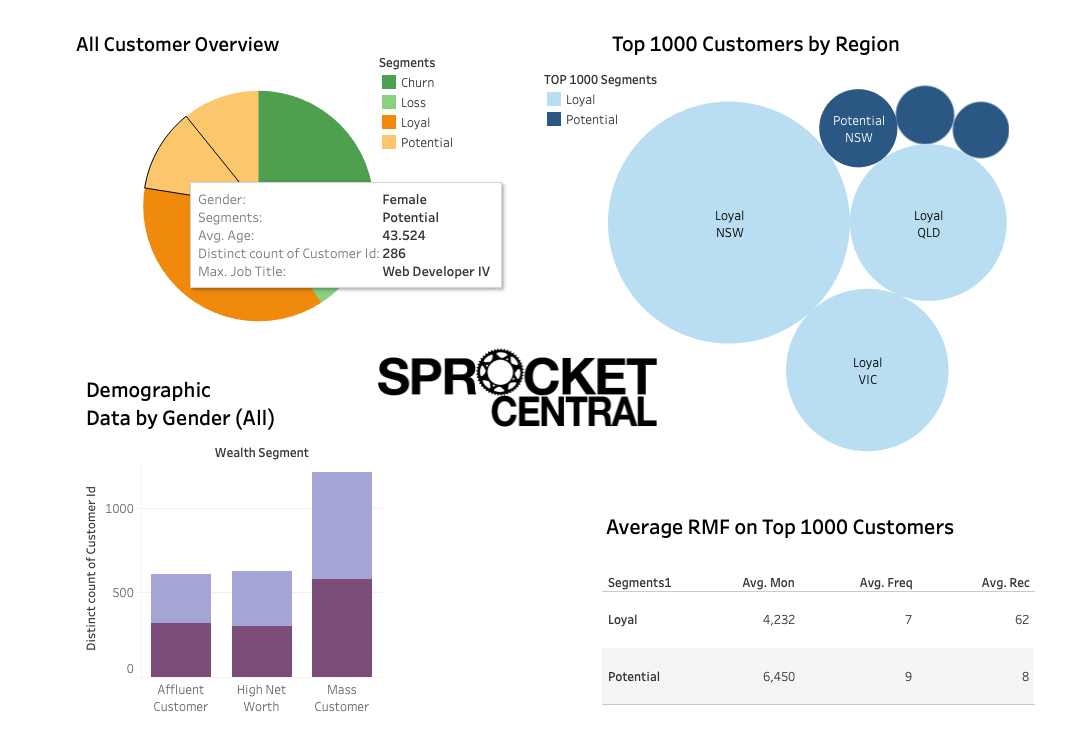

The dashboard page shown, as its layout file describes it:
{"tool":"tableau","page":{"name":"Task 3 Dashboard","canvas":[1000,800],"ordinal":0},"visuals":[{"type":"worksheet","title":"Sheet 2","mark":"Pie","box":[18,17,373,319]},{"type":"worksheet","title":"Sheet 2","mark":"Pie","param":"[federated.0g3k2z01fmvzmt17qfo8y04sjvdw].[none:segments:nk]","box":[325,45,140,98]},{"type":"worksheet","title":"Sheet 3","mark":"Circle","param":"[federated.0g3k2z01fmvzmt17qfo8y04sjvdw].[none:Segments:nk]","box":[490,62,140,58]},{"type":"worksheet","param":"/Users/Joddy-Ojied/Desktop/sprocket_central_logo.png","box":[323,339,288,120]},{"type":"worksheet","title":"Sheet 1","mark":"Automatic","rows":["customer_id"],"cols":["wealth_segment"],"box":[28,362,300,346]},{"type":"worksheet","title":"Sheet 4","mark":"Automatic","rows":["Segments"],"box":[548,499,433,197]}]}

Visuals, with their boxes on the page's 1000x800 design canvas (x1, y1, x2, y2). These are canvas units, not pixel positions in the 1080x741 screenshot, which may show the page scaled, cropped or inside an application window:
"Sheet 2" worksheet (Pie marks): (18,17,391,336)
"Sheet 2" worksheet (Pie marks): (325,45,465,143)
"Sheet 3" worksheet (Circle marks): (490,62,630,120)
worksheet: (323,339,611,459)
"Sheet 1" worksheet: (28,362,328,708)
"Sheet 4" worksheet: (548,499,981,696)
